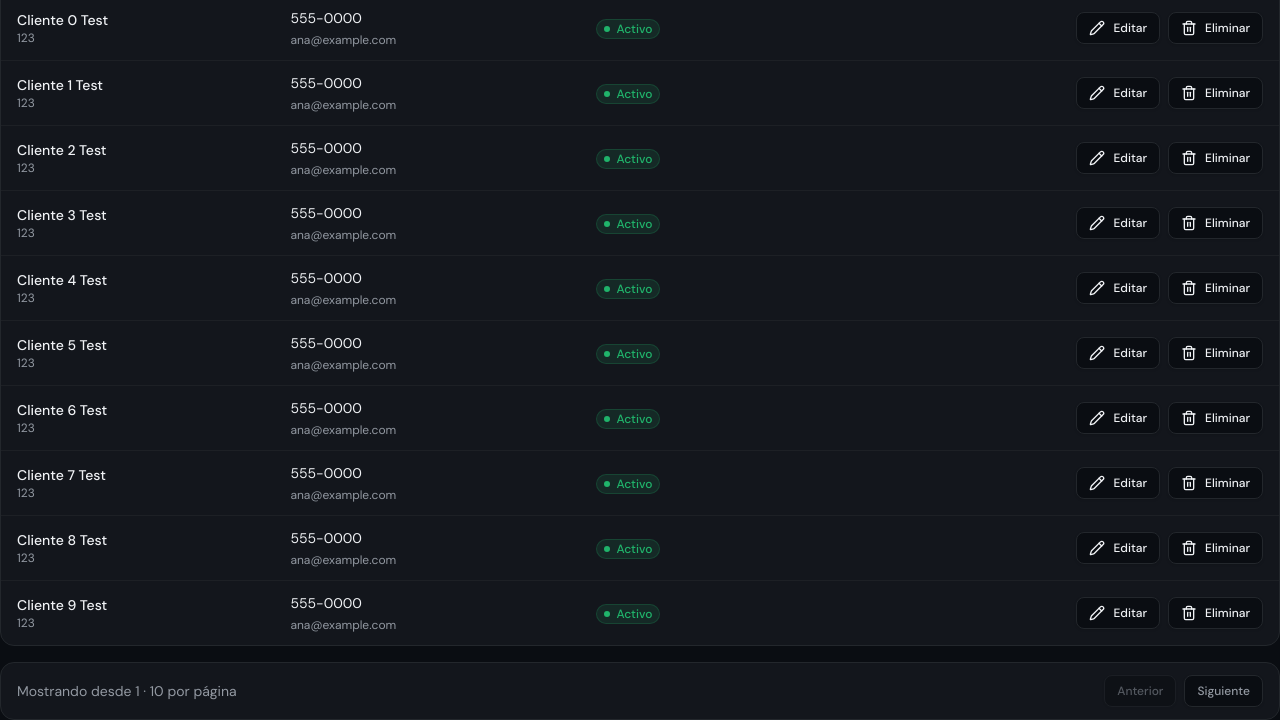
Test: CustomersCrudPage › requests the next offset when clicking Next
(page scrolled)
Expected: the text "Cliente 0 Test" is shown, [17,11,108,29]
Click the button "Siguiente" at (1224, 691), box [1184,675,1263,707]
(page scrolled)
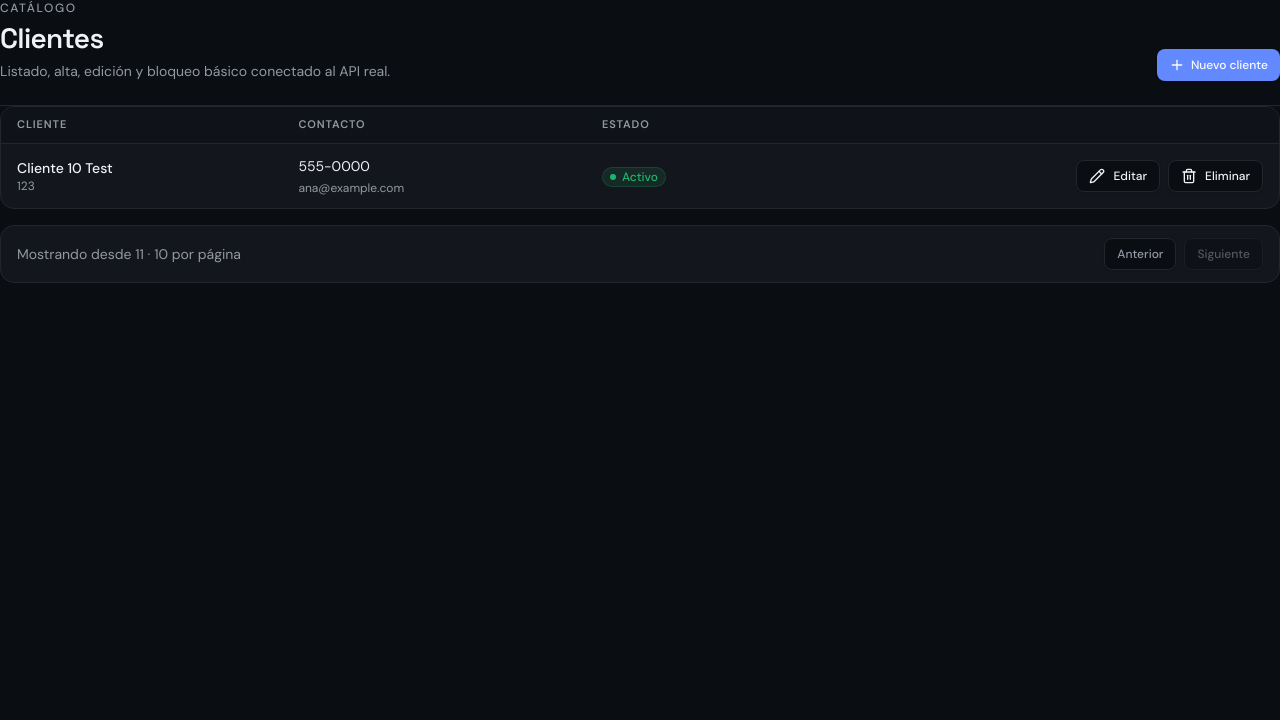
Now the text "Cliente 10 Test" is shown, box [17,159,113,177]
